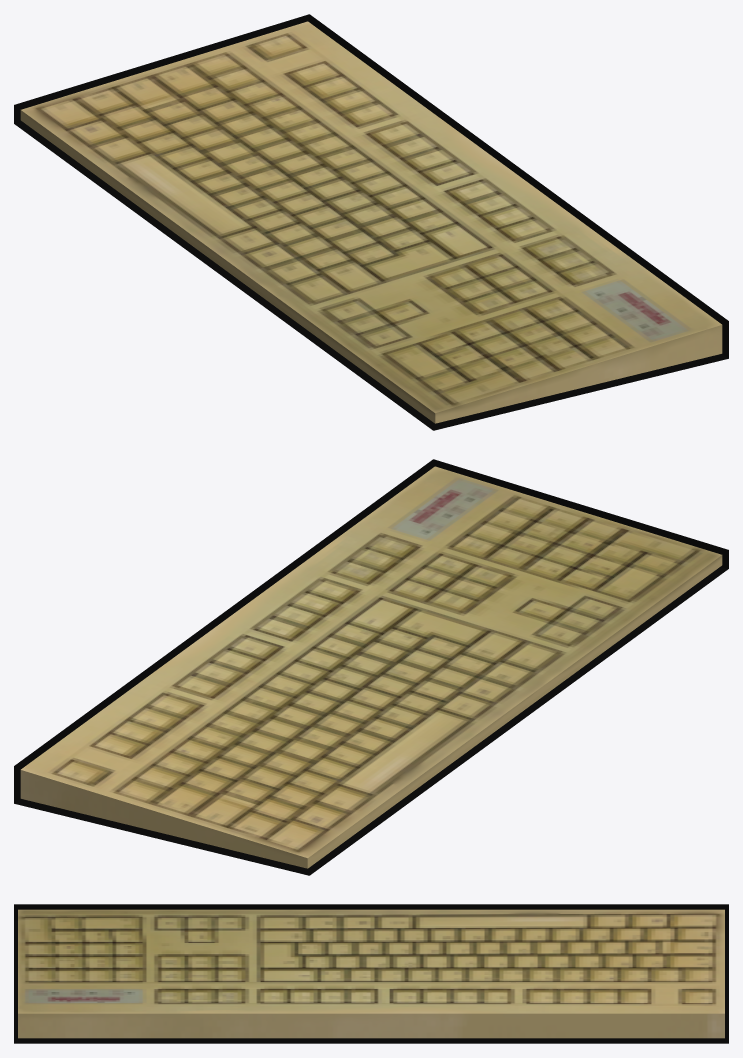
Rendered from Teclado.glb.
The picture shows the model from 3 angles, top to bottom: view 1: azimuth 30°, elevation 25°; view 2: azimuth 150°, elevation 25°; view 3: azimuth 270°, elevation 25°; orthographic projection. The views are drawn at different scales.
Parts seen in each view (by area): view 1: Teclado; view 2: Teclado; view 3: Teclado.
Part boxes in pixels (x1=…): Teclado: x1=14, y1=14, x2=728, y2=430; Teclado: x1=14, y1=459, x2=728, y2=875; Teclado: x1=14, y1=904, x2=728, y2=1043.
Bounding box in the file's own units: 1.24 × 0.1504 × 3.03.
Materials: 2 (1 with a texture image).
